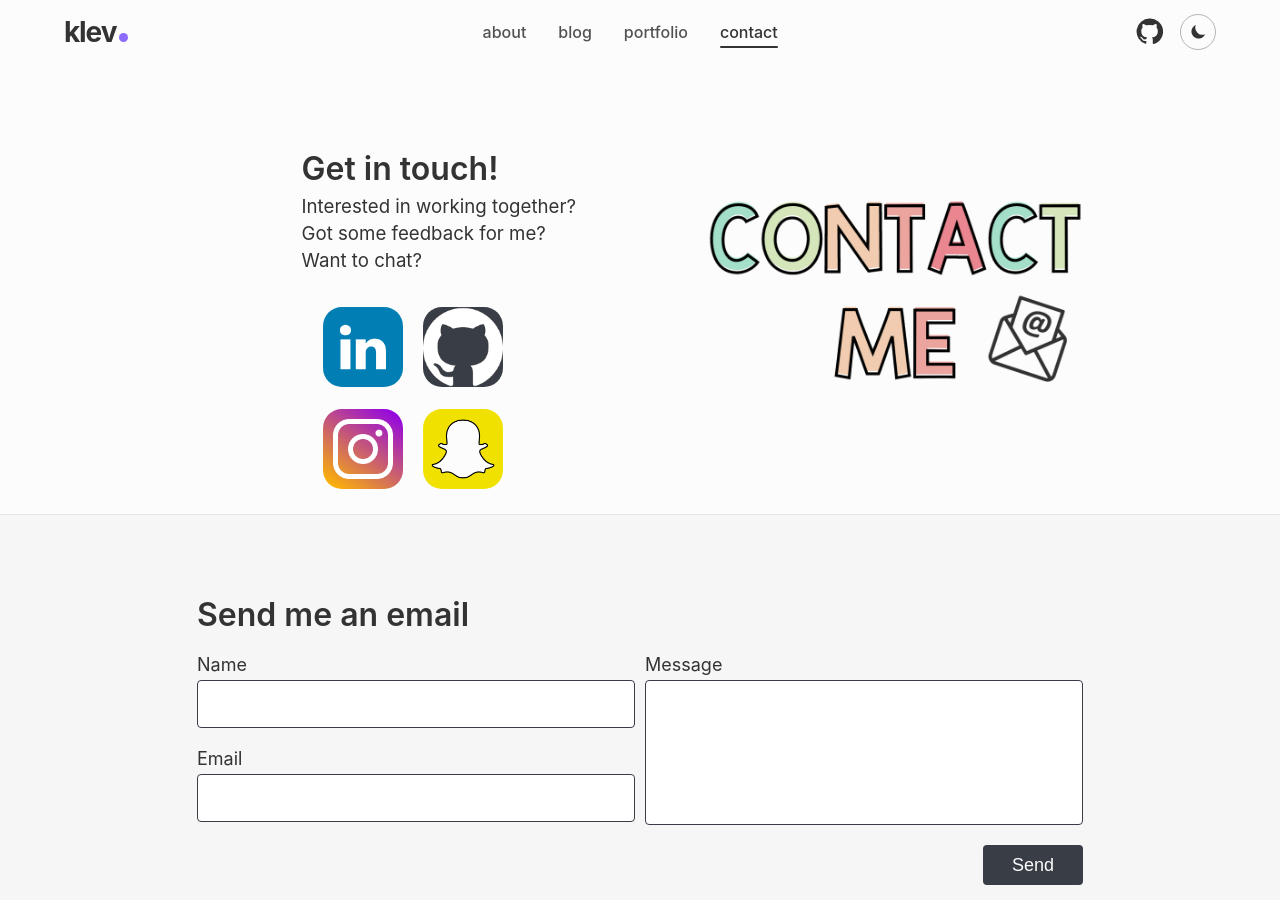
Test: shows every validation error when the contact form is empty
The image size is (1280, 900).
Click the button "Send" at coordinates (1033, 865), box [983, 845, 1083, 885]
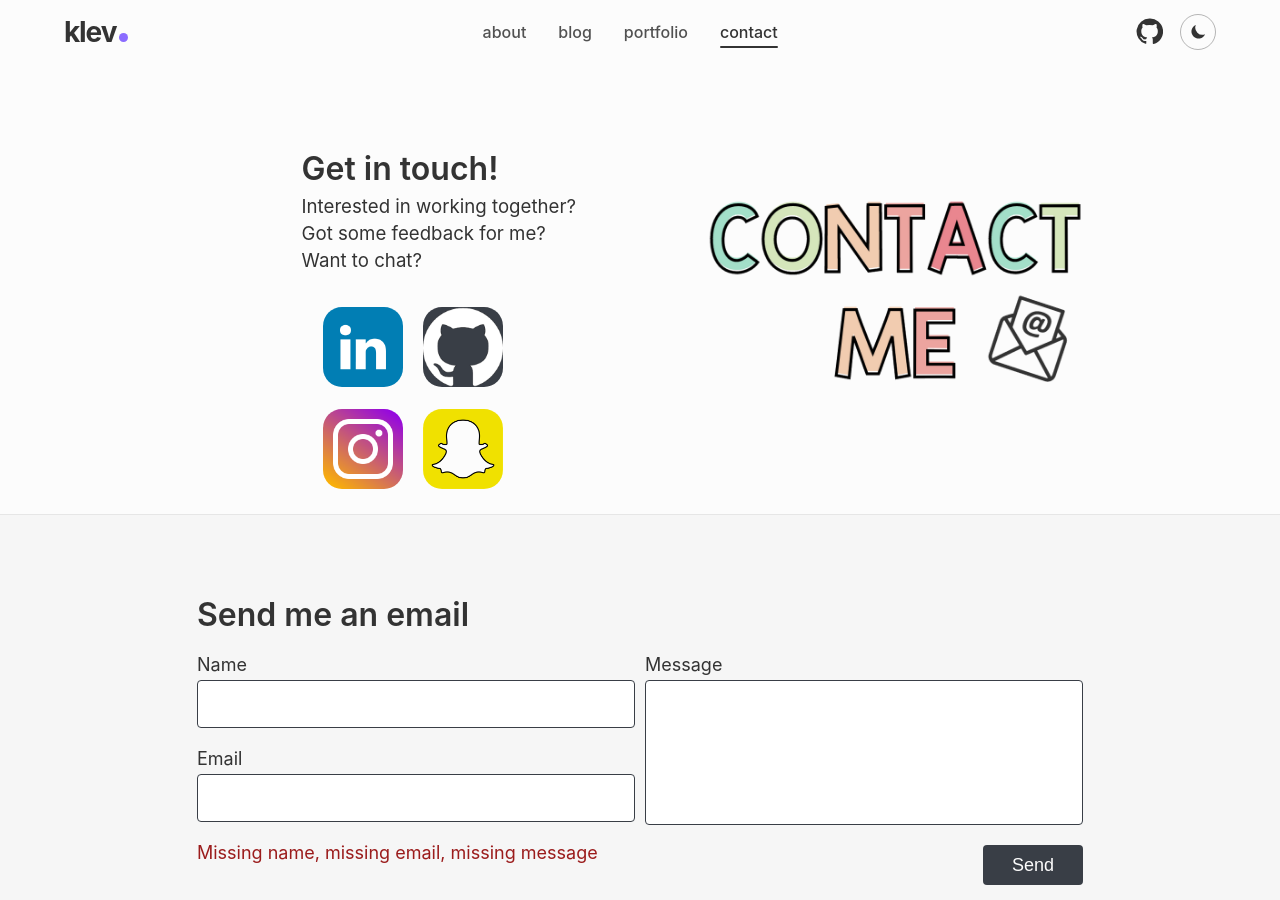
Result: the text "Missing name, missing email, missing message" is shown at [197, 842, 598, 863]
